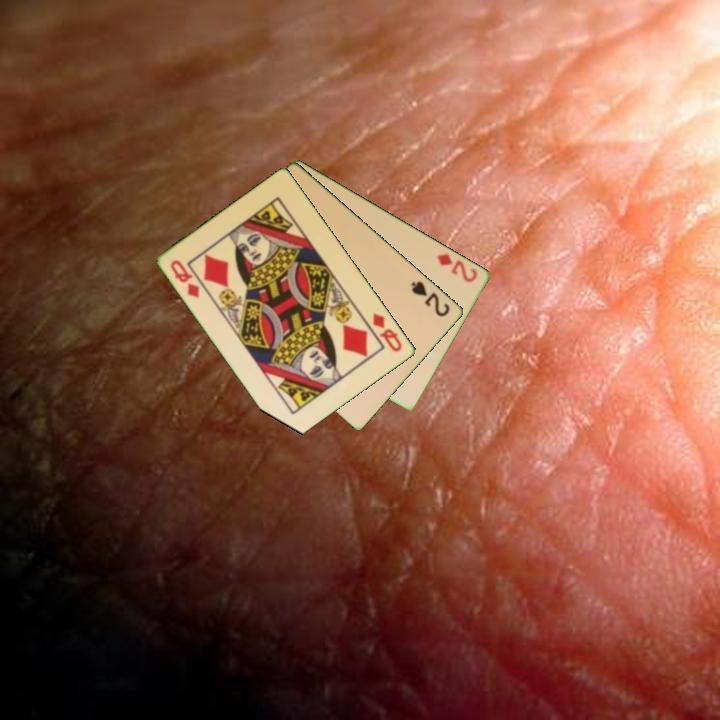2d: (434, 250, 481, 285)
2s: (408, 277, 453, 320)
Qd: (369, 310, 406, 355), (167, 256, 203, 301)
